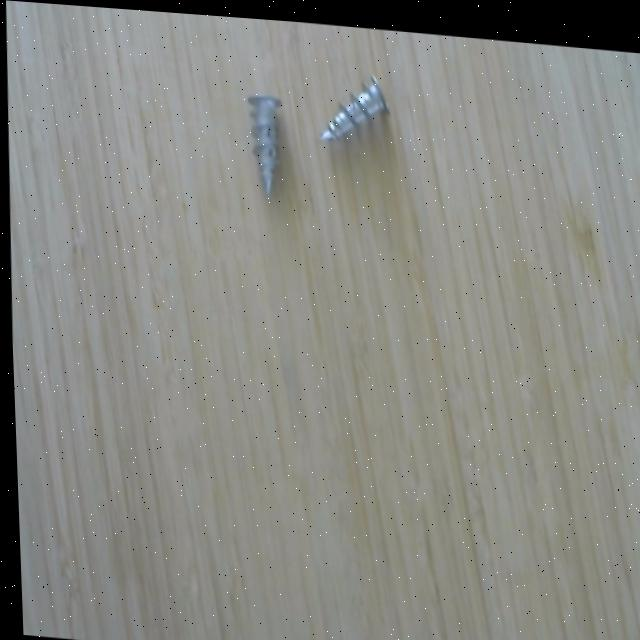Short screw: (309, 60, 393, 144), (243, 84, 284, 199)
